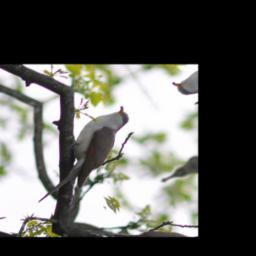Cuckoo: (4, 105, 157, 208)
